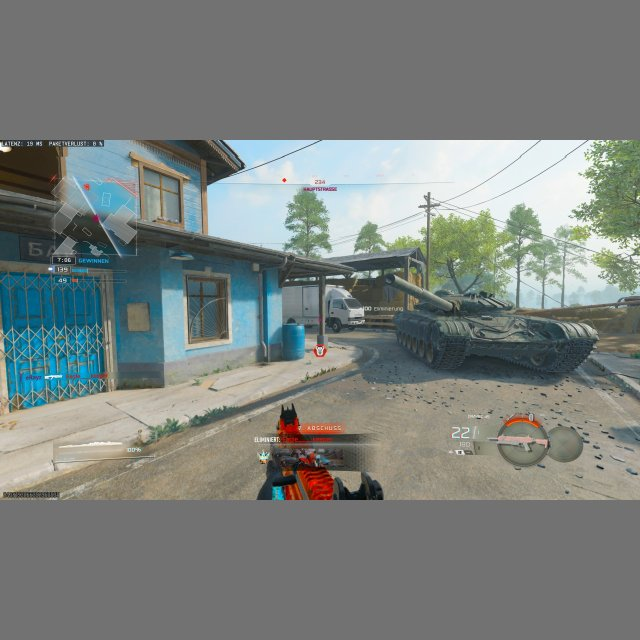player: (260, 407, 385, 500)
